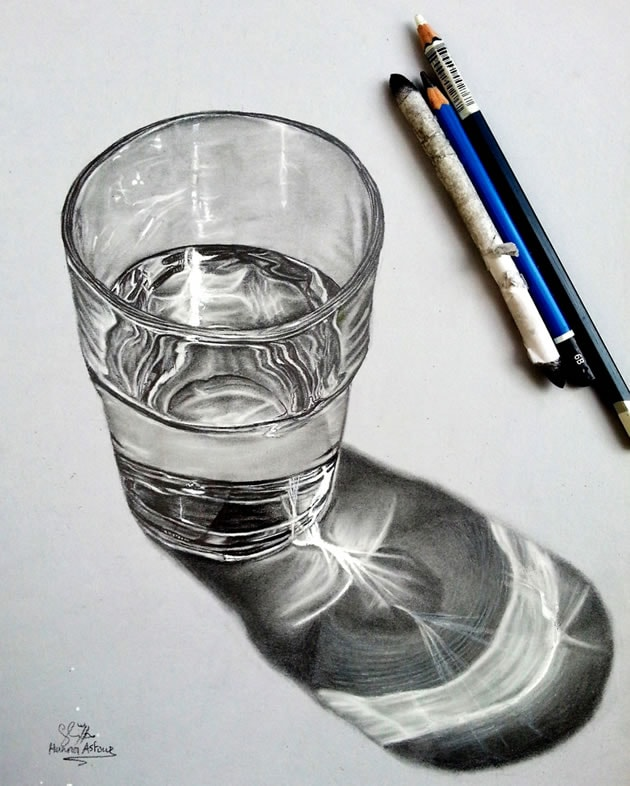glass of water: (100, 155, 349, 544)
